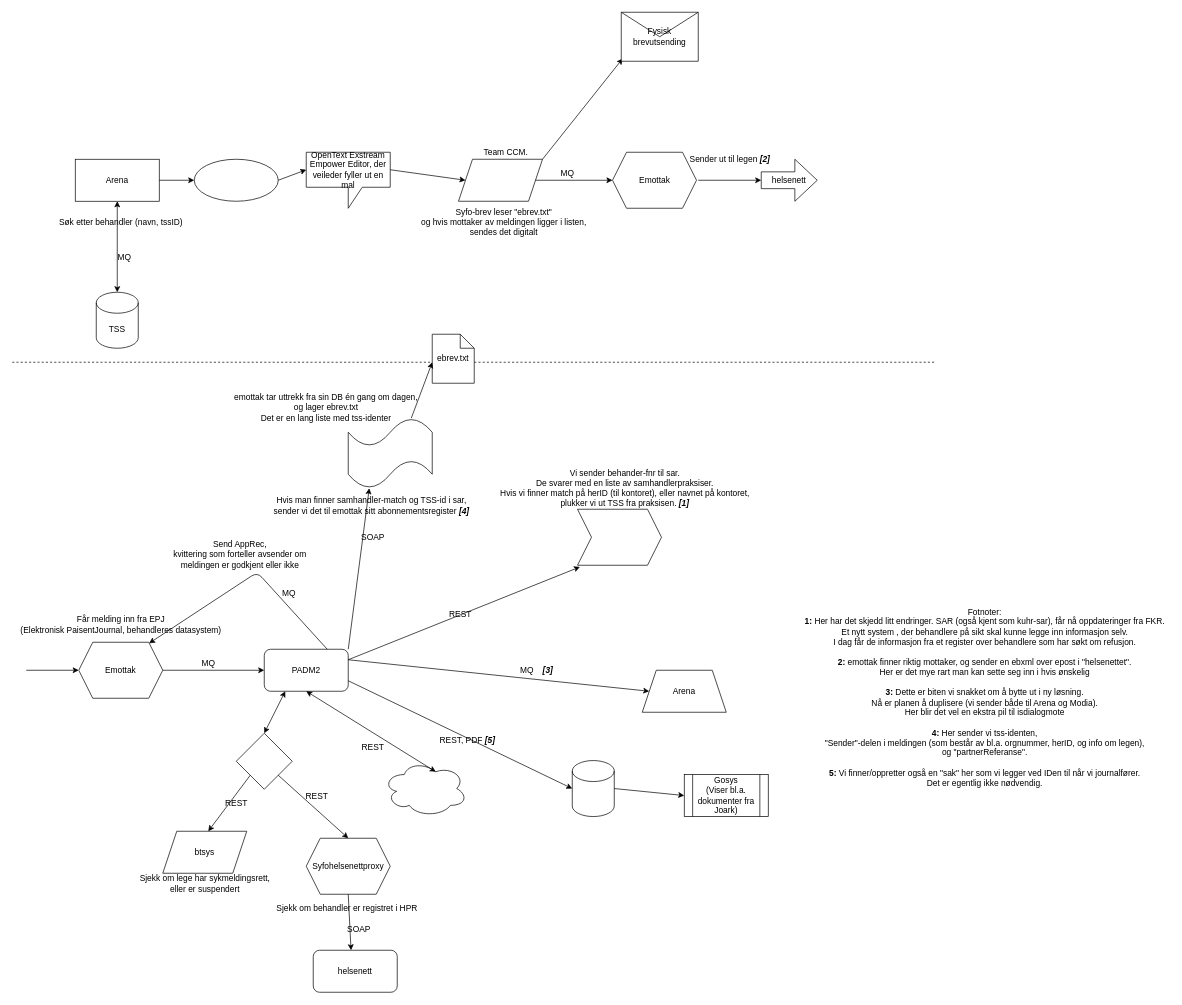
Some shapes in this 1182 by 1005 pixel diagram are drawn without their labels. Here are the shapes that lost their labels. From the top down, the centre of each, then its label:
the point at 236,180: Velg behandler med huket av for "e-dialog"
the point at 500,180: SYFO-brev
the point at 390,453: emottak abonnementsregister
the point at 619,537: sar
the point at 264,761: Regelsjekk (tidligere egen app)
the point at 425,788: padm2pdfgen
the point at 593,788: Joark
